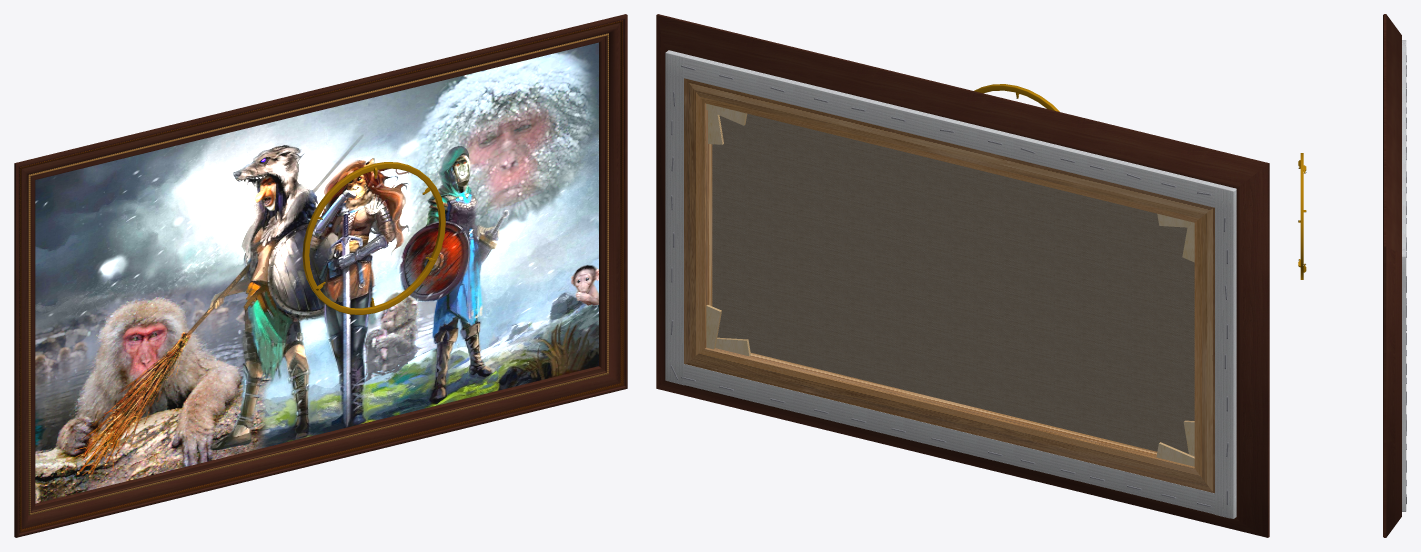
The picture shows the model from 3 angles, left to right: view 1: azimuth 30°, elevation 25°; view 2: azimuth 150°, elevation 25°; view 3: azimuth 270°, elevation 25°; orthographic projection. The views are drawn at different scales.
Parts seen in each view (by area): view 1: Holst_00, Rama_Rama_Wood_0, Rama_Gold2_0, Rama_Gold_0, Obod; view 2: Holst_00, Rama_Rama_Wood_0, Podramnik, Holst_Back; view 3: Rama_Rama_Wood_0, Holst_Back, Obod.
Part boxes in pixels (x1,y1,x2,y2): Holst_00: (35,42,598,503); Rama_Rama_Wood_0: (14,14,627,537); Rama_Gold2_0: (19,20,623,532); Rama_Gold_0: (28,33,608,515); Obod: (302,162,445,314); Holst_00: (712,113,1194,453); Rama_Rama_Wood_0: (656,14,1269,537); Podramnik: (684,78,1214,493); Holst_Back: (665,50,1236,518); Rama_Rama_Wood_0: (1383,14,1401,537); Holst_Back: (1402,40,1406,511); Obod: (1298,153,1306,279).
Size of what is drawn, in the model's own units: 167 by 97.25 by 32.9.
Materials: 15 (12 with a texture image).
